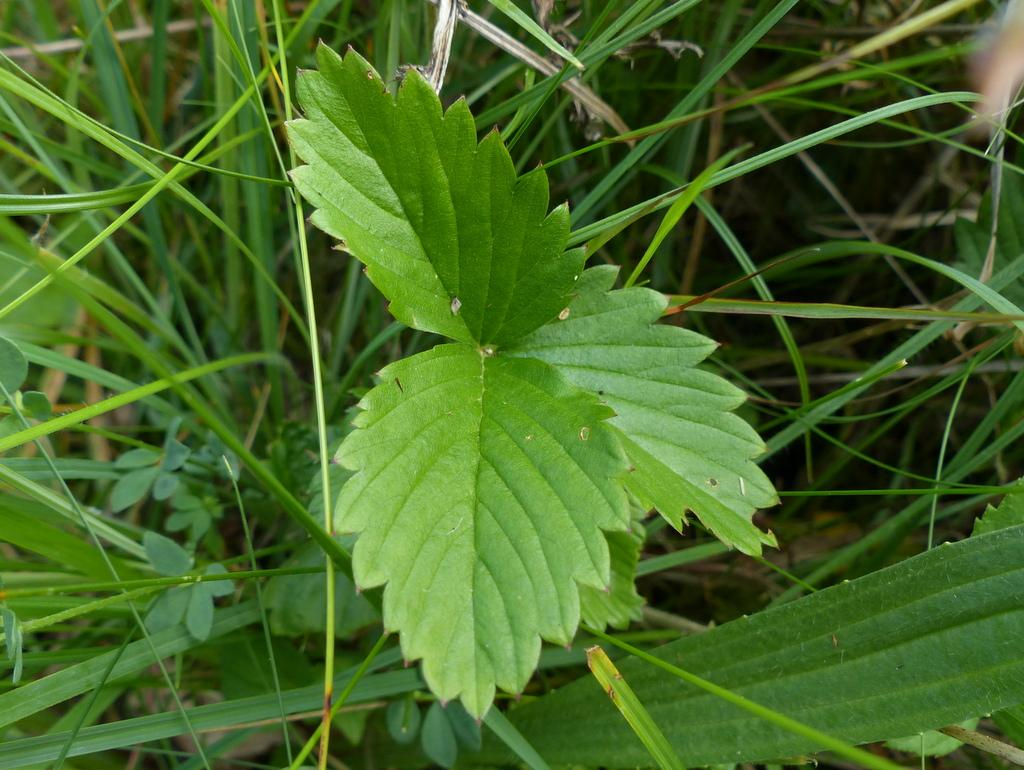Strawberry leaf: (341, 336, 639, 733), (267, 36, 595, 354), (547, 251, 796, 583)
